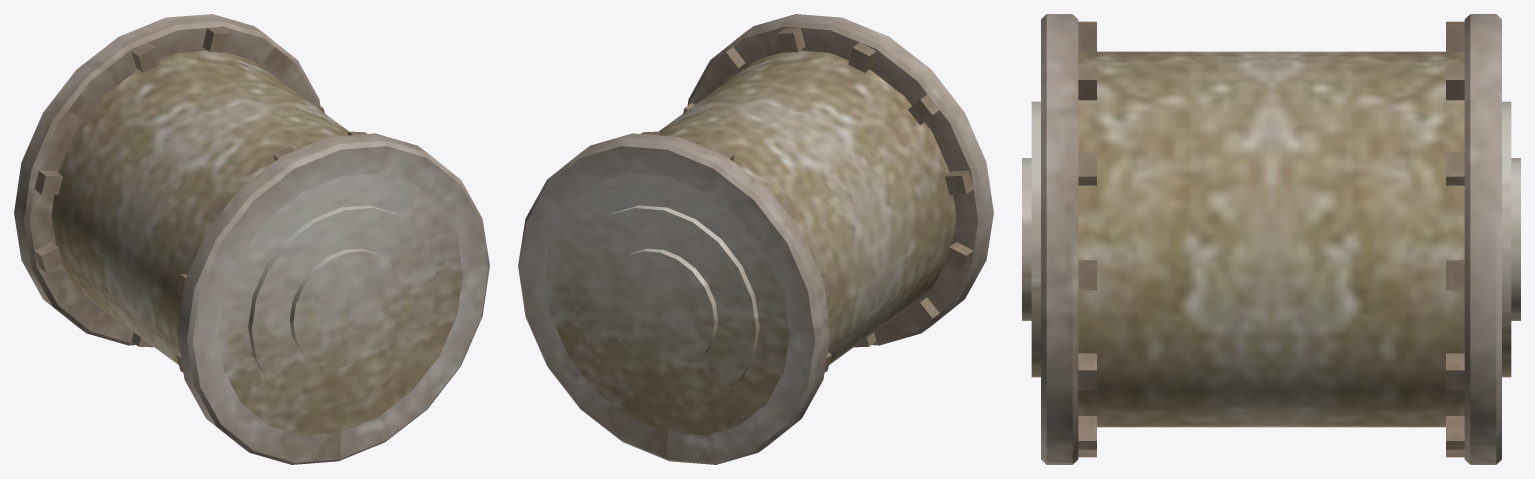
The model's file is pipe-straight-vertical-single.glb.
The picture shows the model from 3 angles, left to right: view 1: azimuth 30°, elevation 25°; view 2: azimuth 150°, elevation 25°; view 3: azimuth 270°, elevation 25°; orthographic projection. The views are drawn at different scales.
Parts seen in each view (by area): view 1: body; view 2: body; view 3: body.
Part boxes in pixels (left/top/right/bottom): body: left=14, top=14, right=489, bottom=464; body: left=518, top=14, right=993, bottom=464; body: left=1022, top=14, right=1520, bottom=464.
Size of the model in its own units: 0.756 by 0.756 by 0.83.
1 material, 1 textured.
